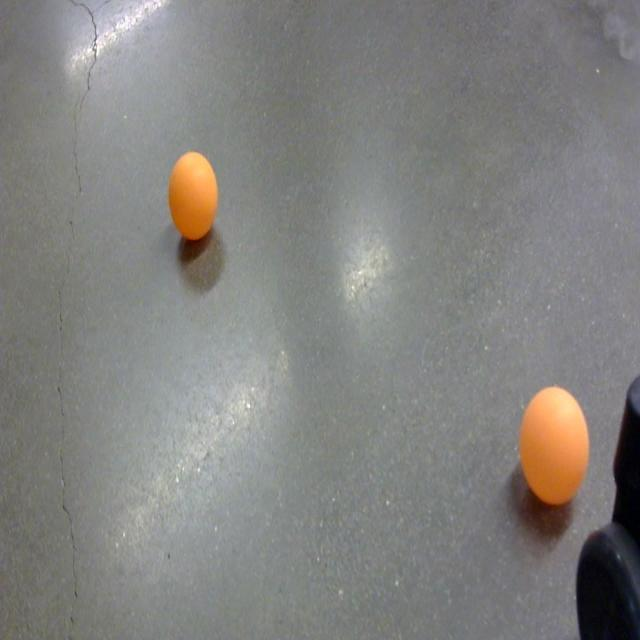ball: (516, 380, 590, 511), (166, 145, 220, 244)
